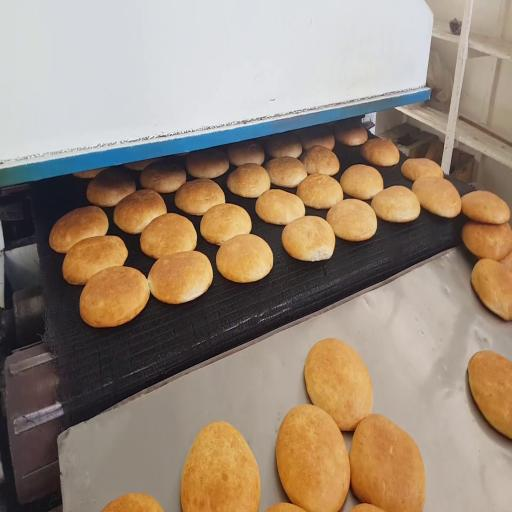bread: (276, 405, 350, 511), (350, 414, 425, 511), (181, 422, 260, 511), (304, 339, 372, 430), (80, 267, 149, 327), (468, 351, 511, 438), (148, 251, 213, 304), (63, 236, 128, 284), (216, 234, 273, 283), (50, 206, 108, 253), (140, 213, 197, 259), (471, 259, 511, 320), (282, 216, 335, 261), (114, 190, 166, 234), (327, 199, 377, 241), (200, 204, 251, 245), (412, 176, 461, 218), (86, 168, 136, 208), (462, 221, 511, 260), (175, 179, 225, 215), (371, 186, 420, 222), (256, 190, 305, 225), (297, 174, 343, 209), (462, 191, 510, 224), (140, 159, 186, 193), (340, 165, 383, 200), (227, 164, 270, 198), (265, 157, 307, 188), (186, 148, 229, 178), (301, 146, 339, 175), (361, 138, 399, 166), (102, 494, 163, 511), (402, 158, 443, 181), (227, 141, 264, 166), (266, 133, 302, 158), (300, 126, 334, 150), (334, 125, 367, 146), (124, 158, 158, 171), (74, 168, 106, 178), (266, 503, 304, 511), (351, 504, 383, 511), (500, 252, 511, 270)
